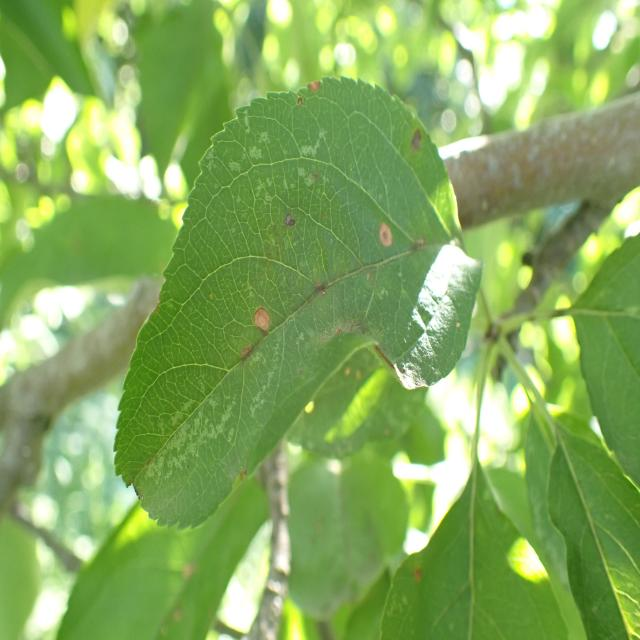frog-eye-leaf-spot: (112, 76, 484, 532), (379, 467, 569, 640)
